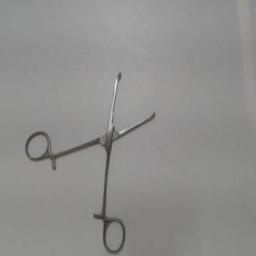Allis Tissue Forceps: (22, 68, 160, 254)
